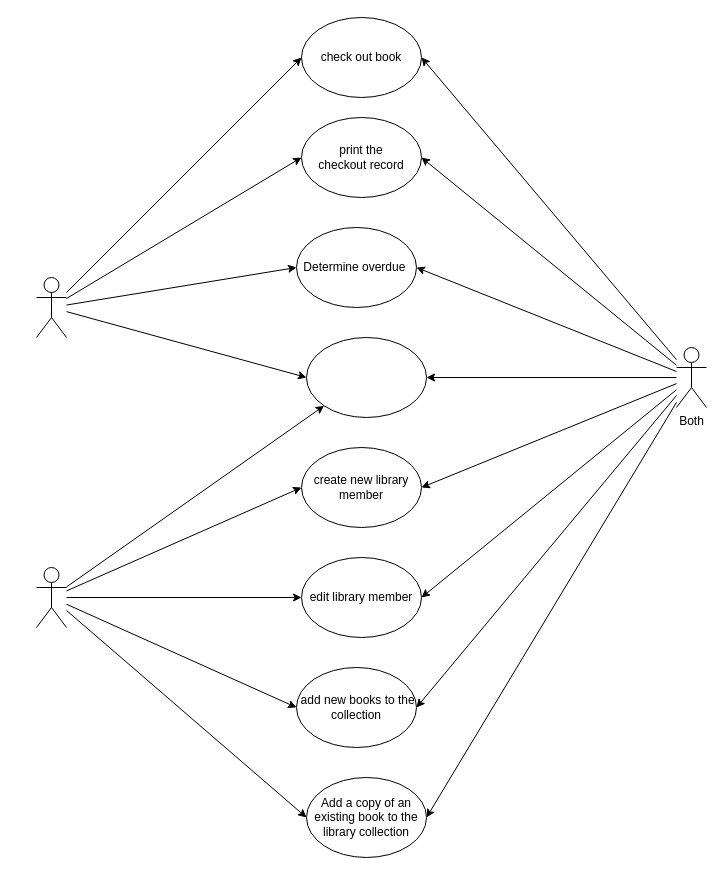
Image size: 724x875. Some labels were removed from this diagram. The shapes that lost their labels are listed below. From the top down, each one's centre as x and y in pixels, then its label:
At point (51, 307): "librarian".
At point (366, 377): "Login".
At point (51, 597): "administrator".
